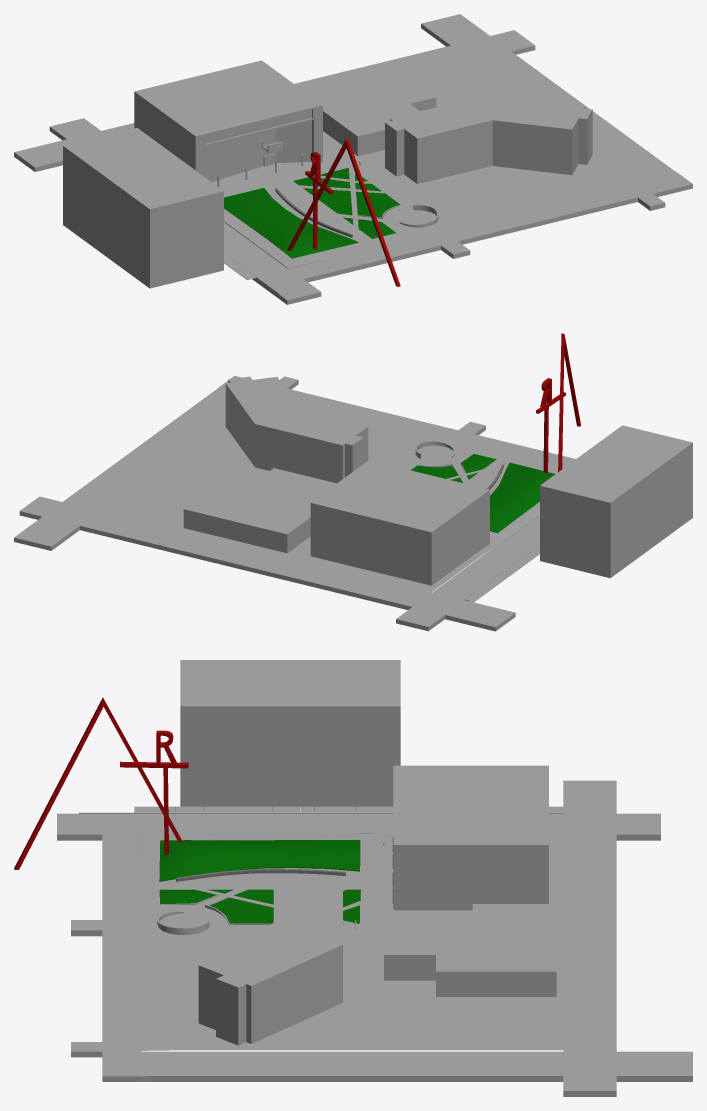
Rendered from CCAD_Quad.fbx.
The picture shows the model from 3 angles, top to bottom: view 1: azimuth 30°, elevation 25°; view 2: azimuth 150°, elevation 25°; view 3: azimuth 270°, elevation 25°; orthographic projection. The views are drawn at different scales.
Parts seen in each view (by area): view 1: pCube4, pPlane2, pCube7, polySurface28, pCube3, pCube2, polySurface3, ArtSign; view 2: pCube4, pCube7, polySurface28, pPlane2, pCube3, pCube2, polySurface3, ArtSign; view 3: pCube4, pPlane2, pCube7, polySurface28, pCube3, pCube2, polySurface3, ArtSign, polySurface2.
Part boxes in pixels (x1,y1,x2,y2): pCube4: (14,14,692,304); pPlane2: (212,57,638,267); pCube7: (63,128,223,288); polySurface28: (134,60,322,181); pCube3: (385,96,592,183); pCube2: (296,62,436,156); polySurface3: (224,168,399,258); ArtSign: (287,139,400,286); pCube4: (14,375,575,631); pCube7: (540,425,692,578); polySurface28: (310,460,489,585); pPlane2: (97,403,562,593); pCube3: (225,376,368,483); pCube2: (183,468,336,553); polySurface3: (411,454,555,532); ArtSign: (536,333,580,472); pCube4: (57,780,692,1096); pPlane2: (139,832,571,1050); pCube7: (180,660,400,806); polySurface28: (393,765,548,910); pCube3: (198,882,342,1045); pCube2: (384,904,556,996); polySurface3: (159,840,360,924); ArtSign: (14,697,188,869); polySurface2: (176,868,346,881).
Size of the model in its own units: 17463 by 4151 by 15063.
